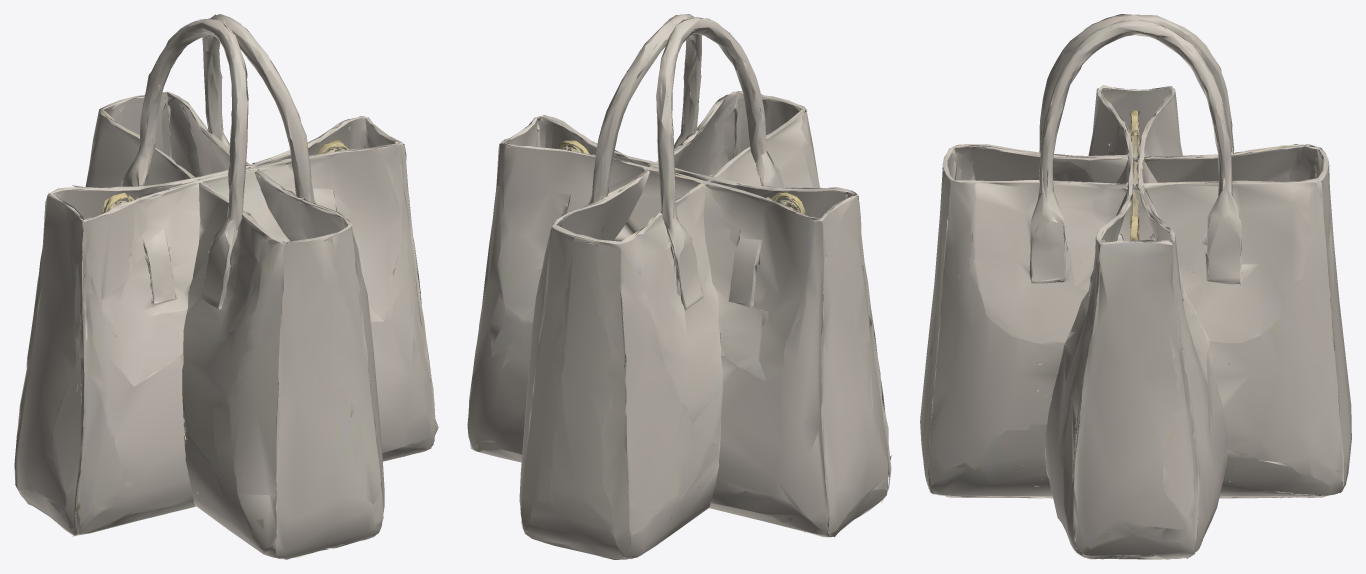
File: v200_trellis2_tasche_00001-90b314ccb4ad.glb
3 views of the same model, side by side, from view 1: azimuth 30°, elevation 25°; view 2: azimuth 150°, elevation 25°; view 3: azimuth 270°, elevation 25° (orthographic).
Parts seen in each view (by area): view 1: Mesh_0; view 2: Mesh_0; view 3: Mesh_0.
Part boxes in pixels (x1,y1,x2,y2): Mesh_0: (14, 14, 438, 559); Mesh_0: (467, 14, 891, 559); Mesh_0: (920, 14, 1351, 559).
Bounding box in the file's own units: 0.8618 × 1 × 0.8553.
Materials: 1 (1 with a texture image).
